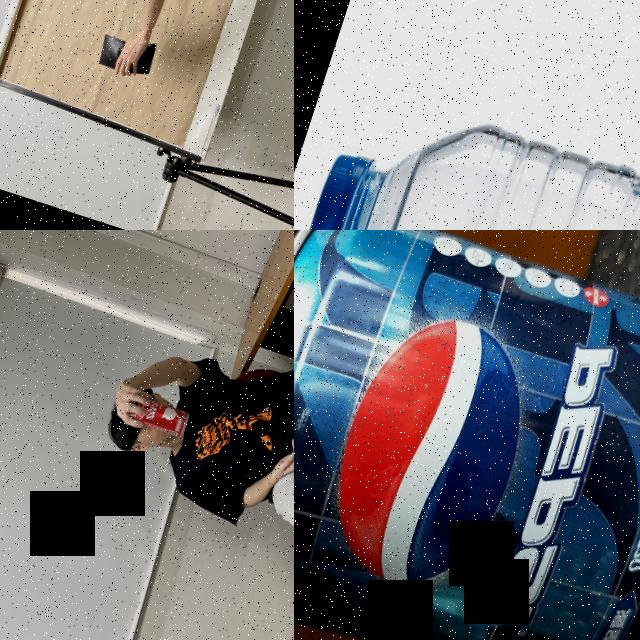bottle: (294, 77, 640, 230)
can: (294, 230, 640, 640), (132, 396, 192, 440)
